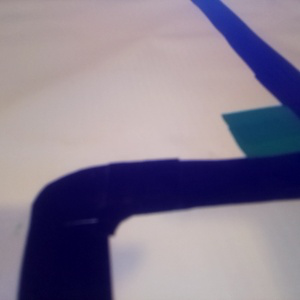top_left: (223, 105, 300, 201)
